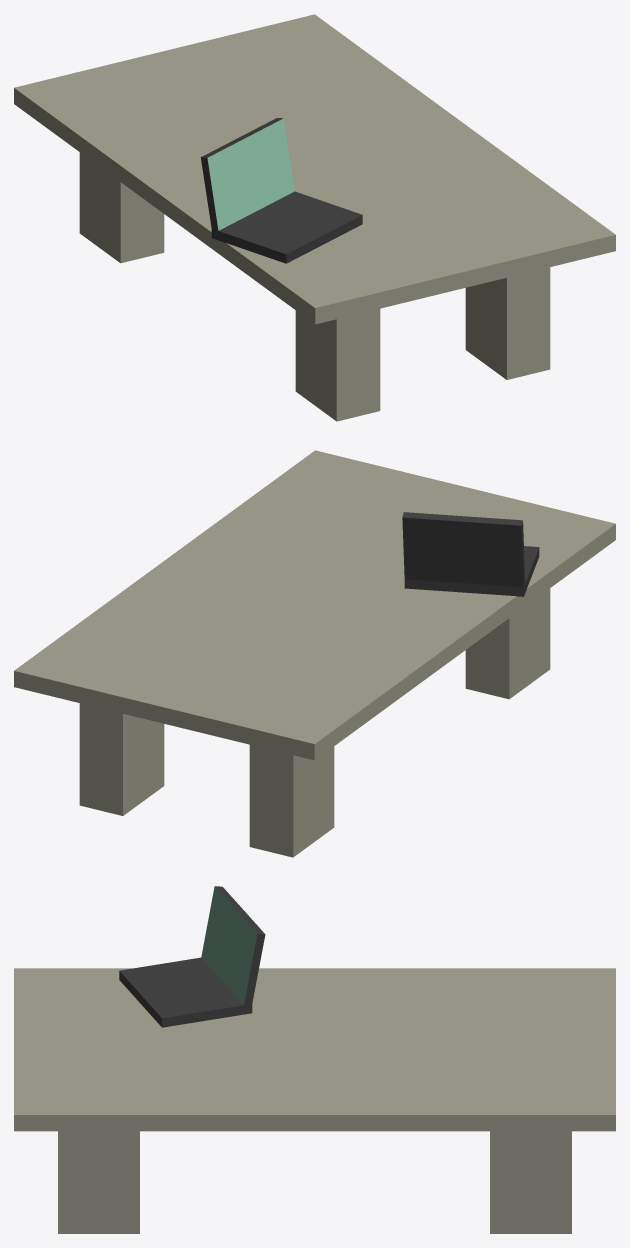
Rendered from table.fbx.
3 renders of one model, top to bottom at view 1: azimuth 30°, elevation 25°; view 2: azimuth 150°, elevation 25°; view 3: azimuth 270°, elevation 25°, orthographic.
Parts seen in each view (by area): view 1: 0_table, 0_laptop; view 2: 0_table, 0_laptop; view 3: 0_table, 0_laptop.
Part boxes in pixels (box(x1,y1,x2,y2)): 0_table: box(14, 14, 615, 421); 0_laptop: box(200, 118, 362, 263); 0_table: box(14, 450, 615, 857); 0_laptop: box(402, 512, 539, 596); 0_table: box(14, 968, 615, 1233); 0_laptop: box(119, 886, 265, 1027).
Bounding box in the file's own units: 469 × 315 × 787.
